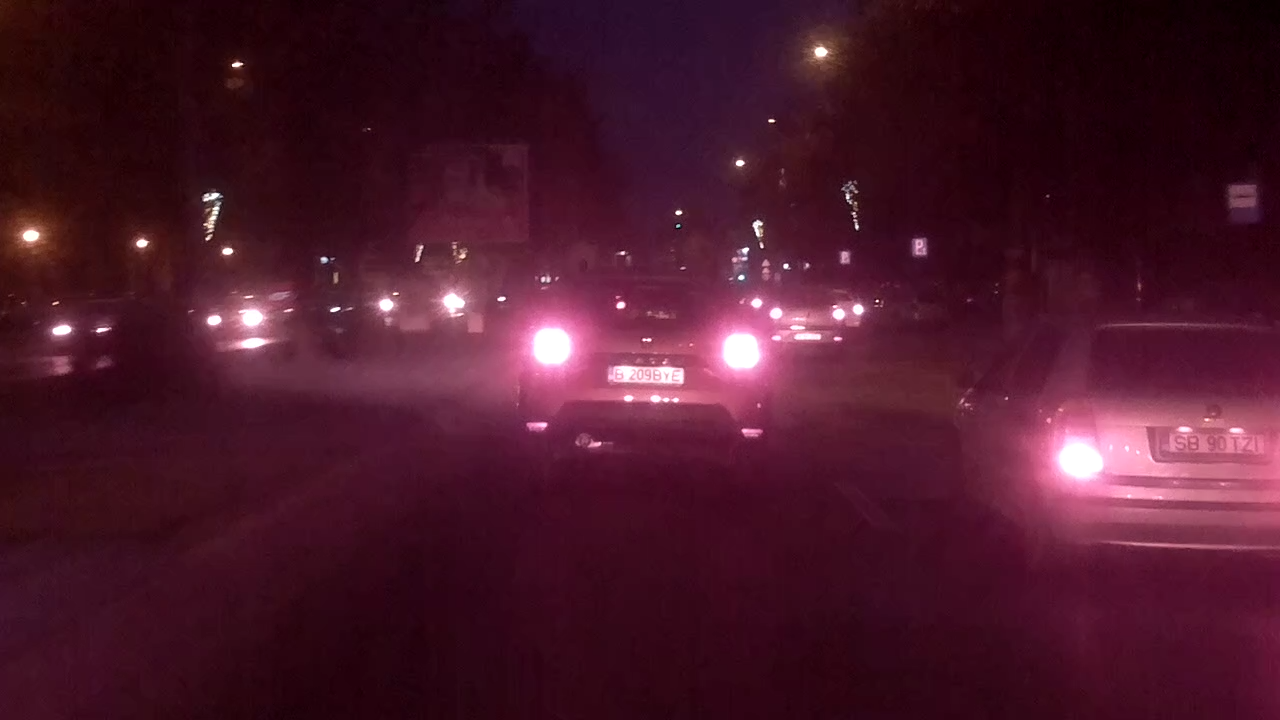license-plate: (1155, 429, 1270, 458), (603, 363, 686, 386)
